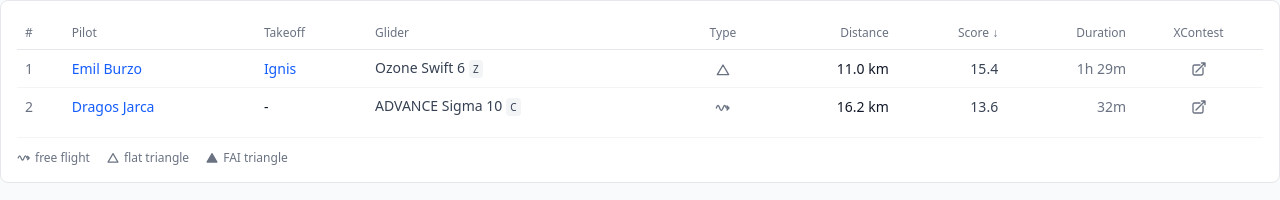
Test case: DailyFlightsList › table (sm and up) › sorting › sorts number columns highest first, and reverses on a second click
Click the column heading "Distance".
click(831, 33)  # box [764, 17, 897, 50]
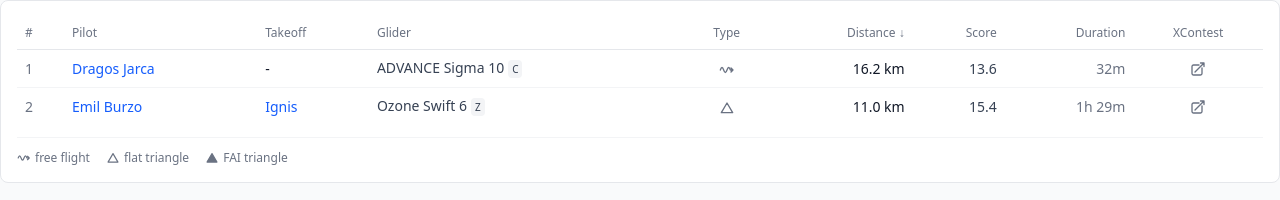
Result: the column heading "Distance ↓" is shown
Click the column heading "Distance ↓".
click(841, 33)  # box [768, 17, 913, 50]
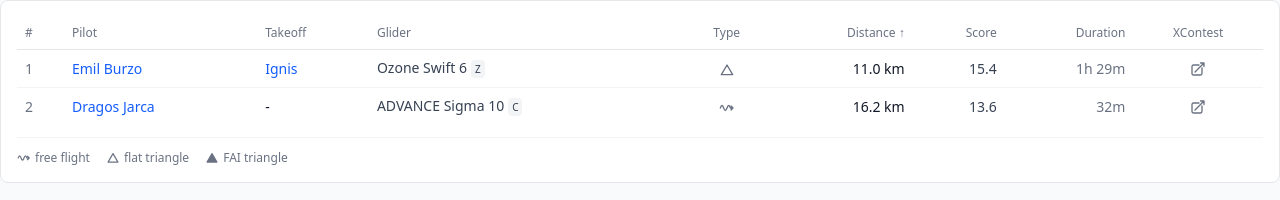
Result: the column heading "Distance ↑" is shown at [768, 17, 913, 50]
